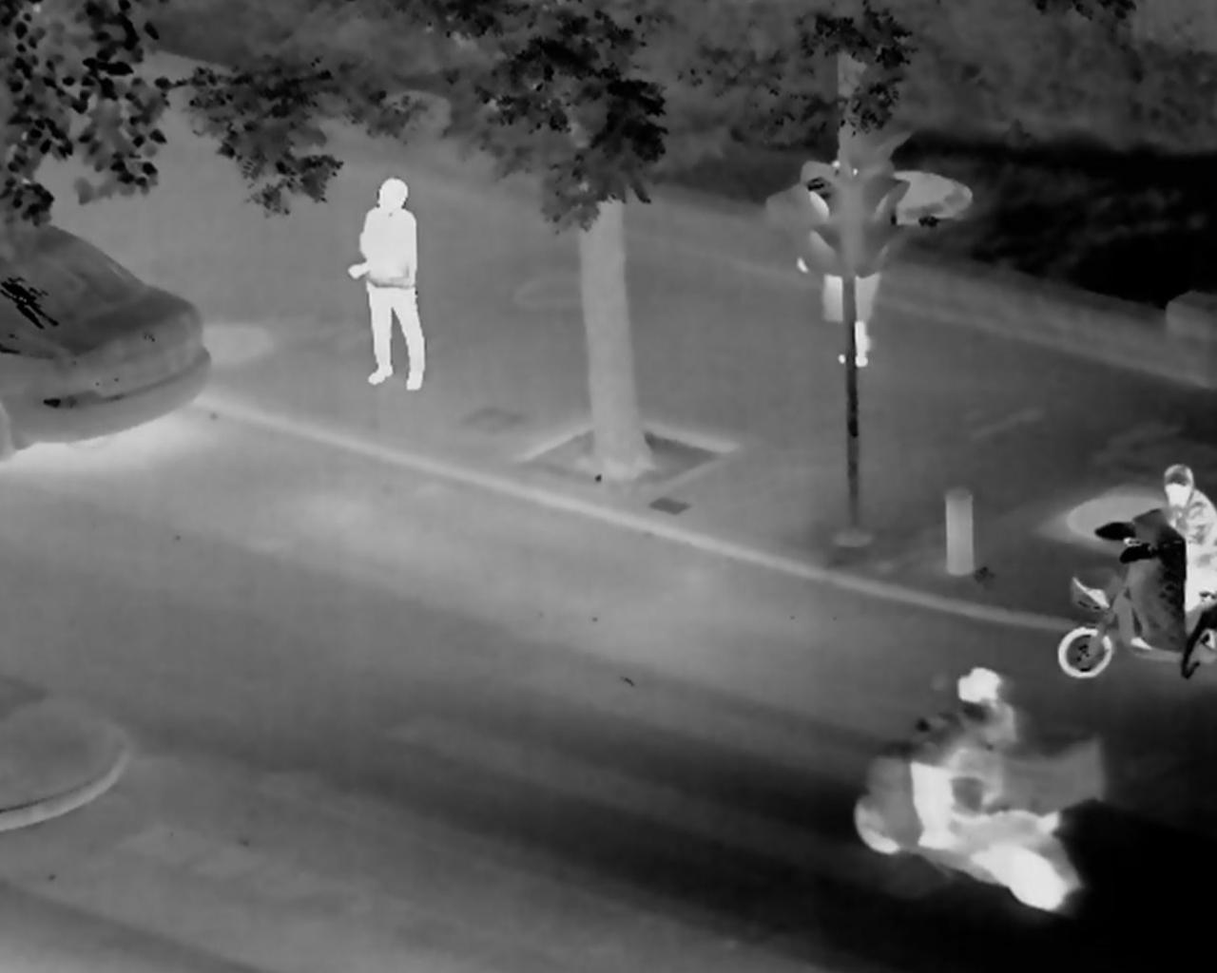person: (341, 175, 451, 390), (927, 661, 1033, 857), (1128, 445, 1217, 616)
